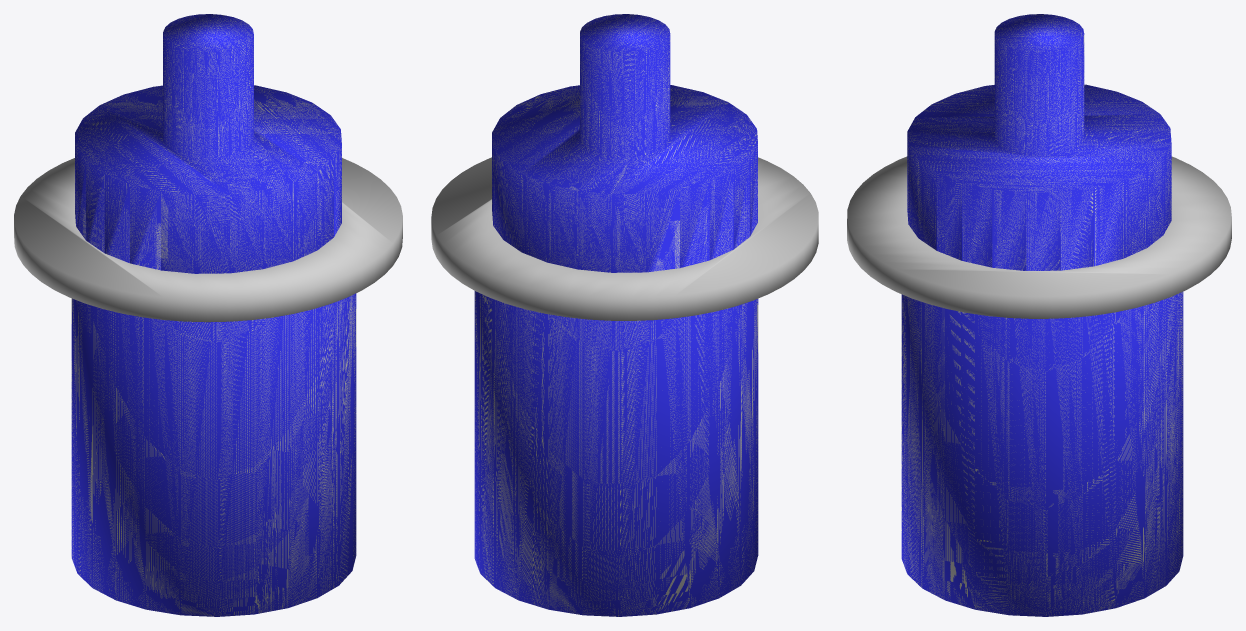
The picture shows the model from 3 angles, left to right: view 1: azimuth 30°, elevation 25°; view 2: azimuth 150°, elevation 25°; view 3: azimuth 270°, elevation 25°; orthographic projection.
Visible parts, largest first — view 1: mesh2_mesh2-geometry, mesh1_mesh1-geometry; view 2: mesh2_mesh2-geometry, mesh1_mesh1-geometry; view 3: mesh2_mesh2-geometry, mesh1_mesh1-geometry.
Part boxes in pixels (box(x1,y1,x2,y2)): mesh2_mesh2-geometry: box(71, 293, 356, 616); mesh1_mesh1-geometry: box(14, 14, 402, 322); mesh2_mesh2-geometry: box(474, 291, 758, 616); mesh1_mesh1-geometry: box(431, 14, 818, 320); mesh2_mesh2-geometry: box(901, 292, 1183, 616); mesh1_mesh1-geometry: box(847, 14, 1231, 318).
Size of the model in its own units: 0.486 by 0.7263 by 0.486.
